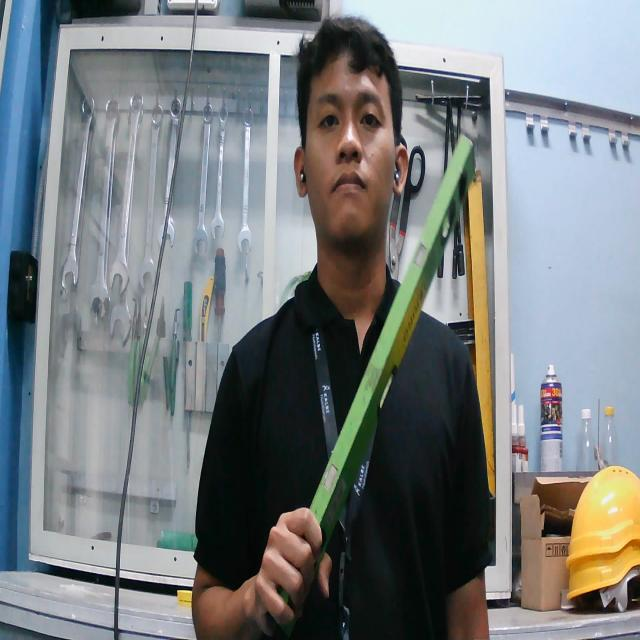water_pass: (267, 131, 478, 640)
